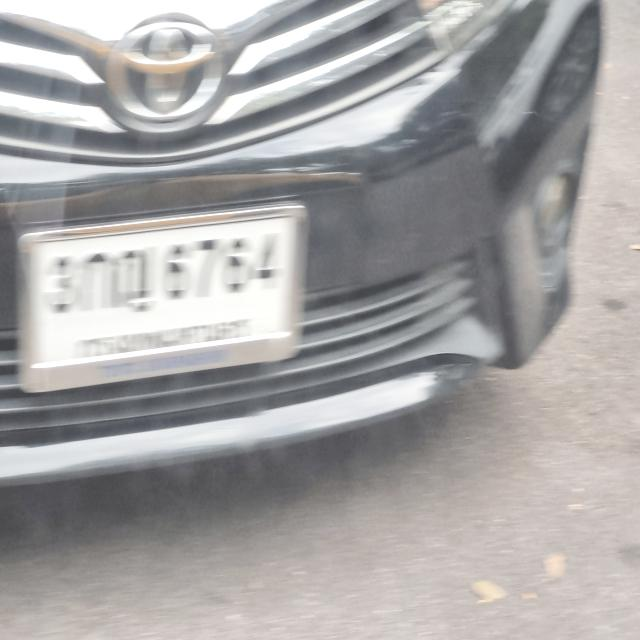license_plate: (14, 200, 312, 394)
